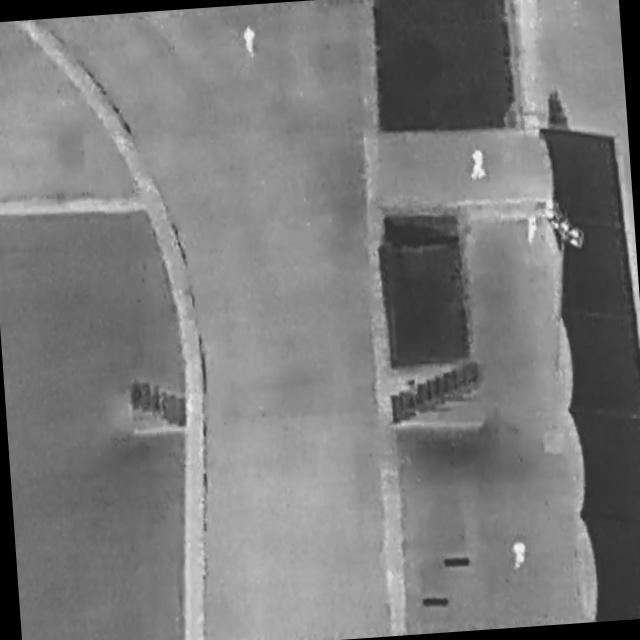person: (510, 538, 529, 572), (470, 148, 488, 182), (243, 24, 259, 59), (525, 213, 539, 244)
